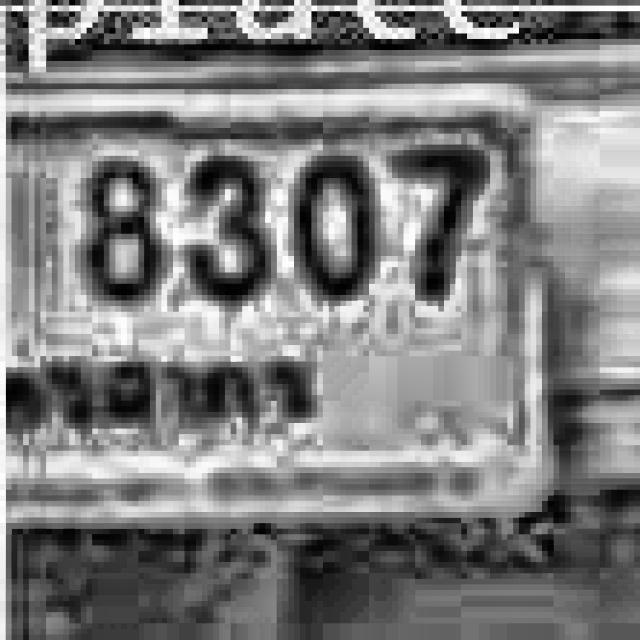license-plate: (0, 73, 571, 530)
